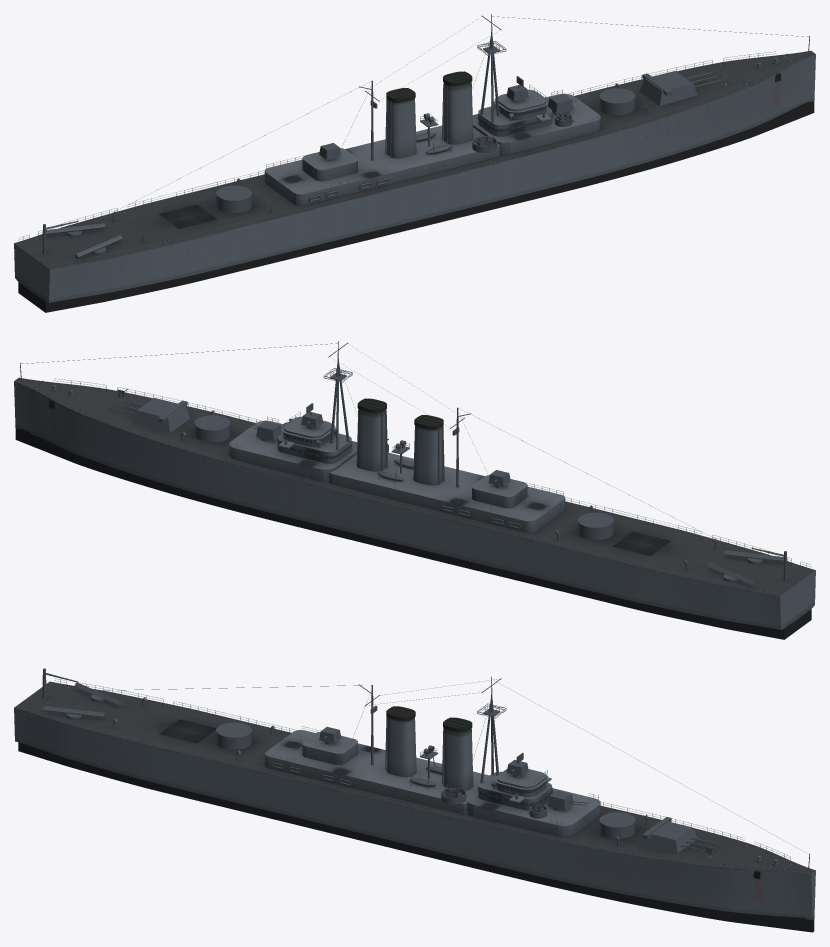
The model's file is cleveland-cl.glb.
3 renders of one model, top to bottom at view 1: azimuth 30°, elevation 25°; view 2: azimuth 150°, elevation 25°; view 3: azimuth 330°, elevation 25°, orthographic.
Visible parts, largest first — view 1: cleveland-cl_dark, Skirt, Kit_turret-6in-triple; view 2: cleveland-cl_dark, Skirt, Kit_turret-6in-triple; view 3: cleveland-cl_dark, Skirt, Kit_turret-6in-triple.
Boxes of the visible parts, <box> form: cleveland-cl_dark: <box>14,14,815,302</box>; Skirt: <box>18,101,814,312</box>; Kit_turret-6in-triple: <box>639,71,697,105</box>; cleveland-cl_dark: <box>14,341,815,629</box>; Skirt: <box>15,428,811,639</box>; Kit_turret-6in-triple: <box>132,398,190,432</box>; cleveland-cl_dark: <box>14,668,815,920</box>; Skirt: <box>18,742,814,932</box>; Kit_turret-6in-triple: <box>639,817,697,853</box>.
Bounding box in the file's own units: 186 × 40.14 × 20.23.
4 materials, 1 textured.
